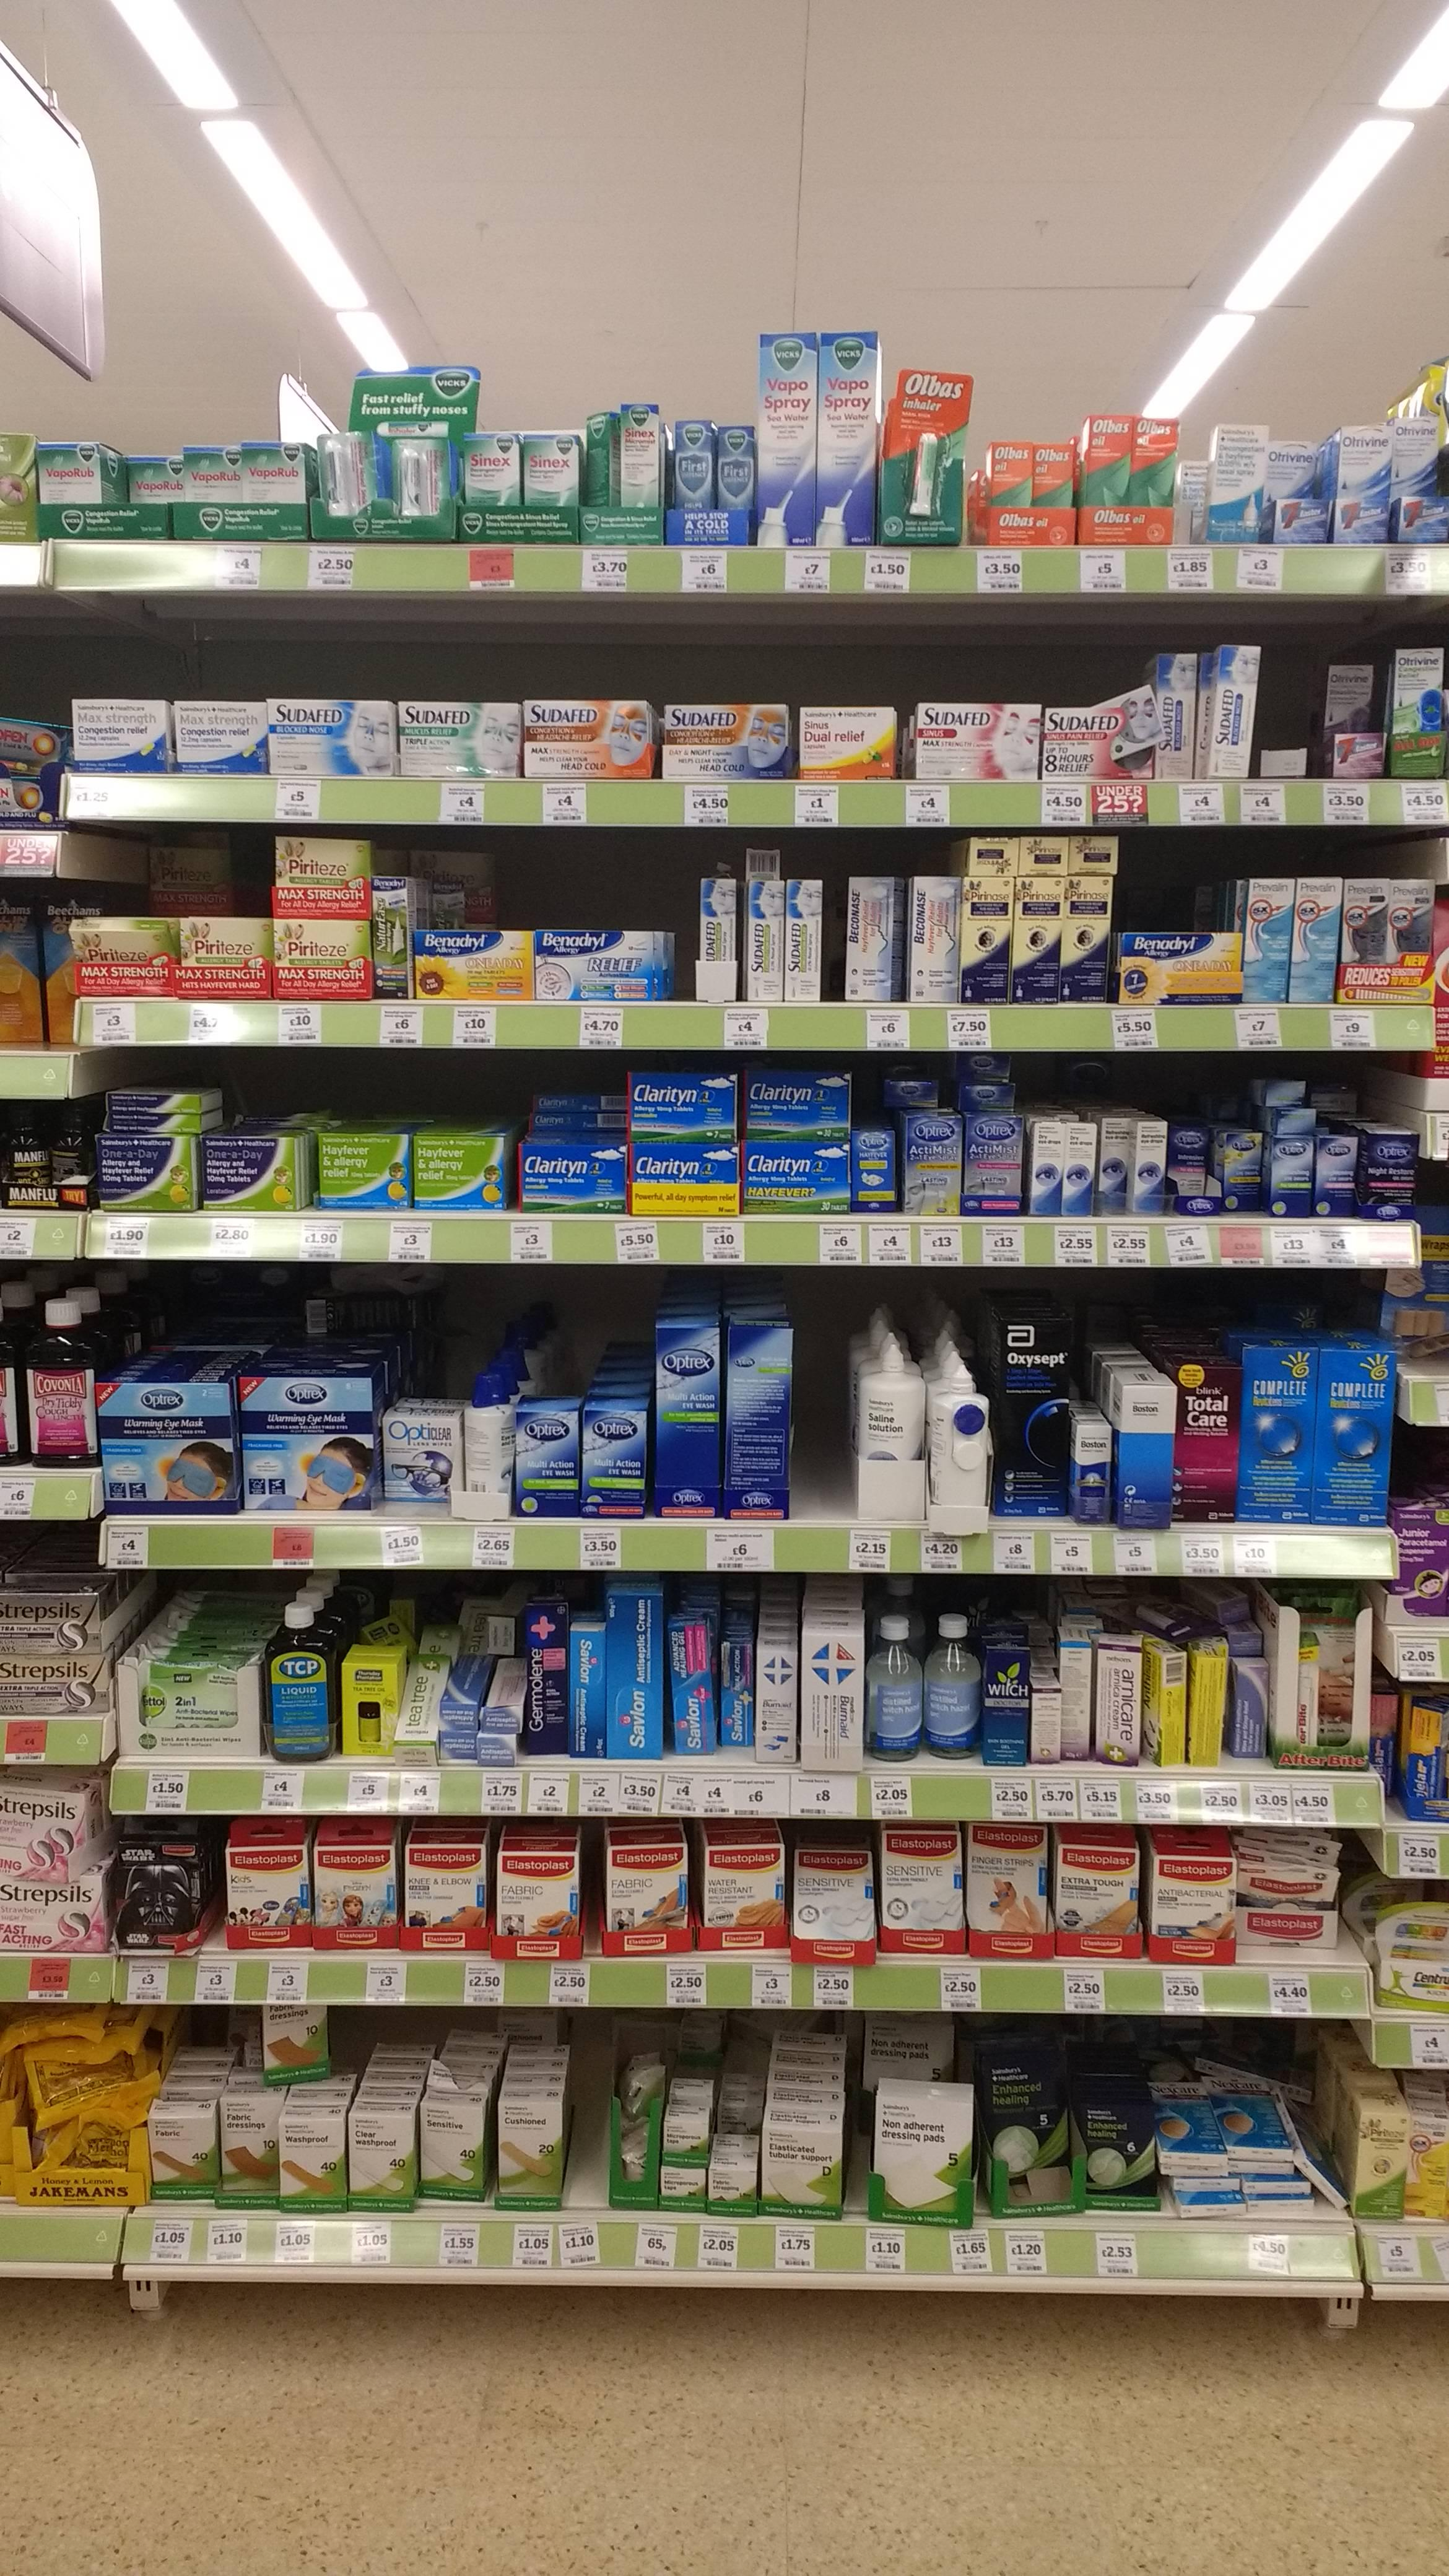misalignment: (65, 902, 180, 989), (251, 2005, 347, 2086), (1138, 1631, 1192, 1773), (1076, 686, 1159, 766), (1191, 1633, 1226, 1780), (400, 1649, 433, 1752), (582, 407, 614, 499), (734, 846, 796, 878)
